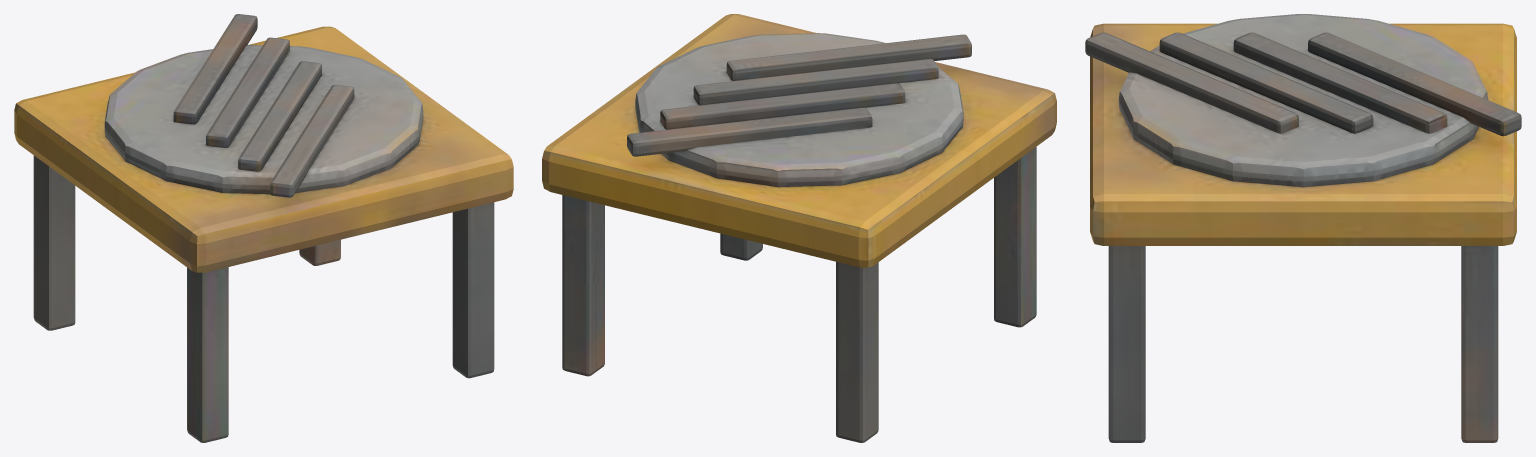
Rendered from conveyor_corner.glb.
3 renders of one model, left to right at view 1: azimuth 30°, elevation 25°; view 2: azimuth 150°, elevation 25°; view 3: azimuth 270°, elevation 25°, orthographic. The views are drawn at different scales.
Visible parts, largest first — view 1: ConveyorCorner_Mesh; view 2: ConveyorCorner_Mesh; view 3: ConveyorCorner_Mesh.
Part boxes in pixels (box(x1,y1,x2,y2)): ConveyorCorner_Mesh: box(14, 14, 513, 442); ConveyorCorner_Mesh: box(542, 14, 1056, 442); ConveyorCorner_Mesh: box(1085, 14, 1521, 442).
Size of the model in its own units: 0.46 by 0.34 by 0.4702.
1 material, 1 textured.
